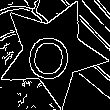O_N: (27, 24, 77, 81)
